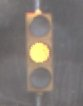Yellow: (14, 6, 66, 105)
